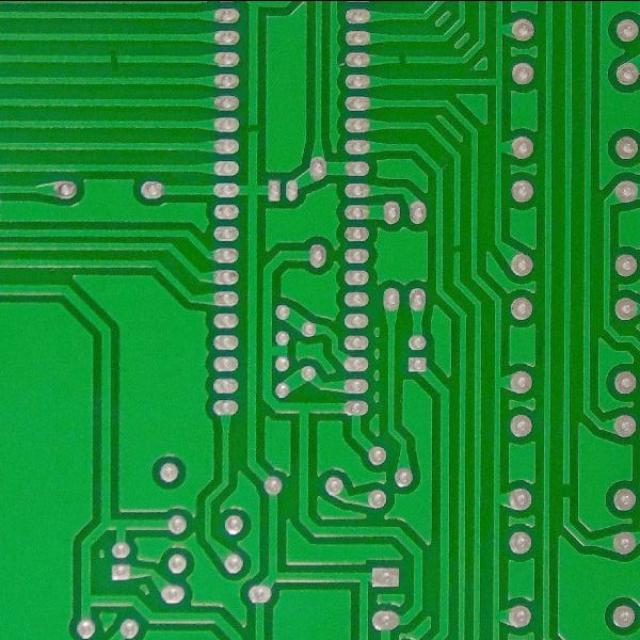Open_Circuit: (556, 472, 577, 508), (102, 45, 128, 70), (243, 117, 265, 140), (391, 48, 415, 68), (449, 237, 465, 261)
